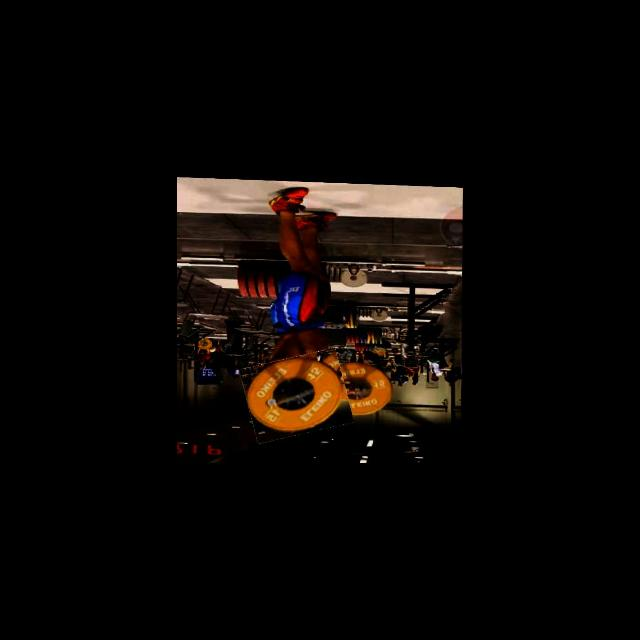barbell: (243, 349, 351, 440)
